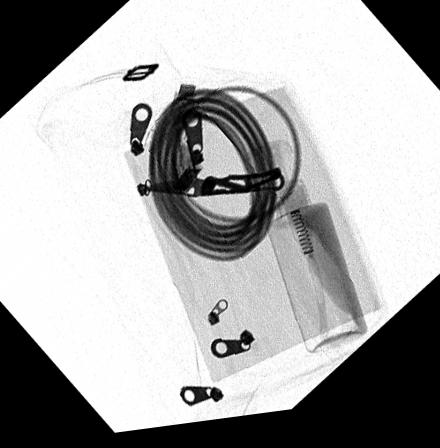Knife: (142, 171, 287, 203)
